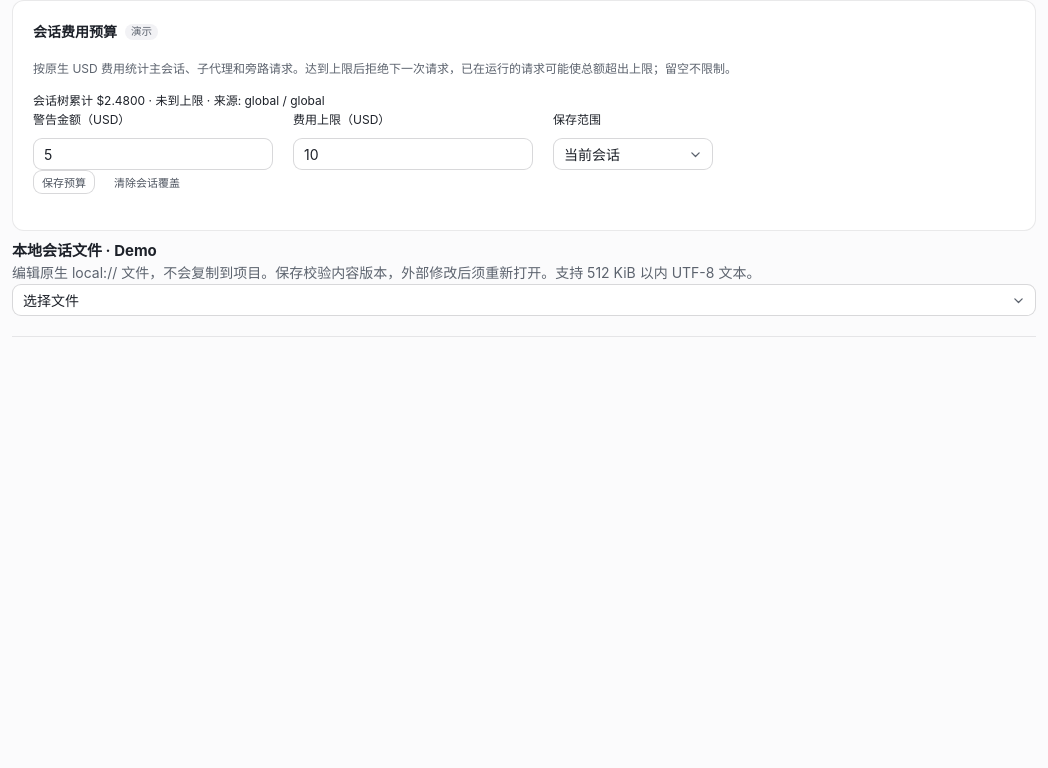
Scenario: keeps budget and local-file demo edits off the Host
Replace the text in the number field labelled "费用上限（USD）" with "1" at (413, 154), box [293,138,533,170]
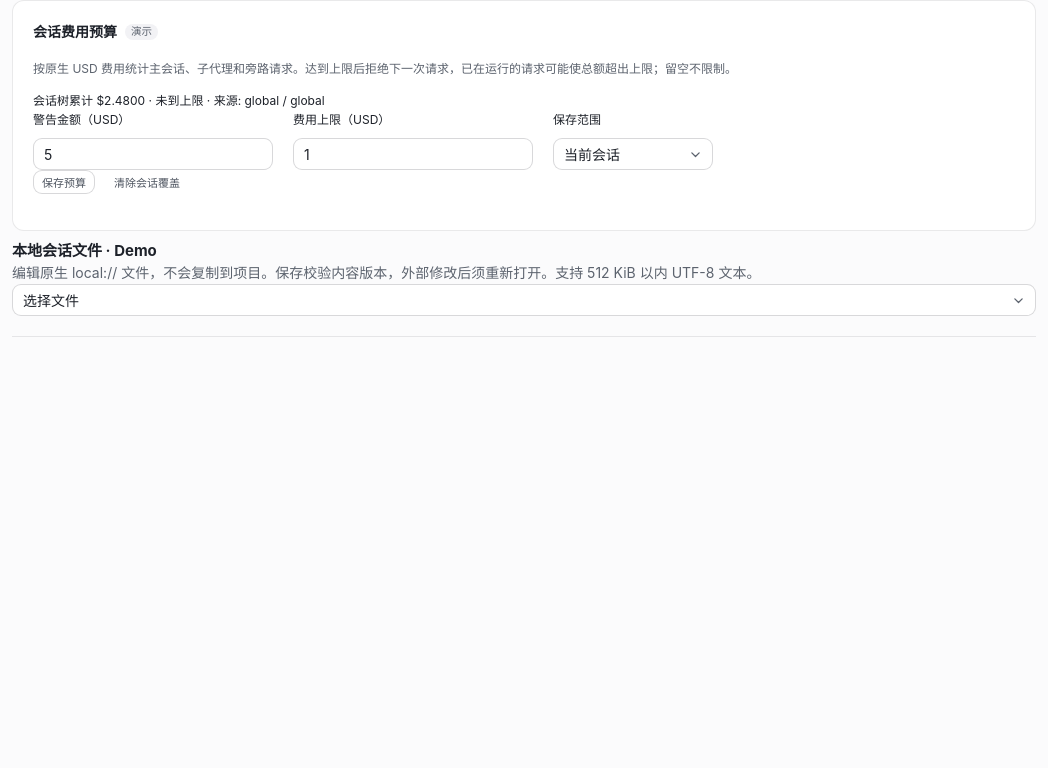
Click the button "保存预算" at (64, 182), box [33,170,95,194]
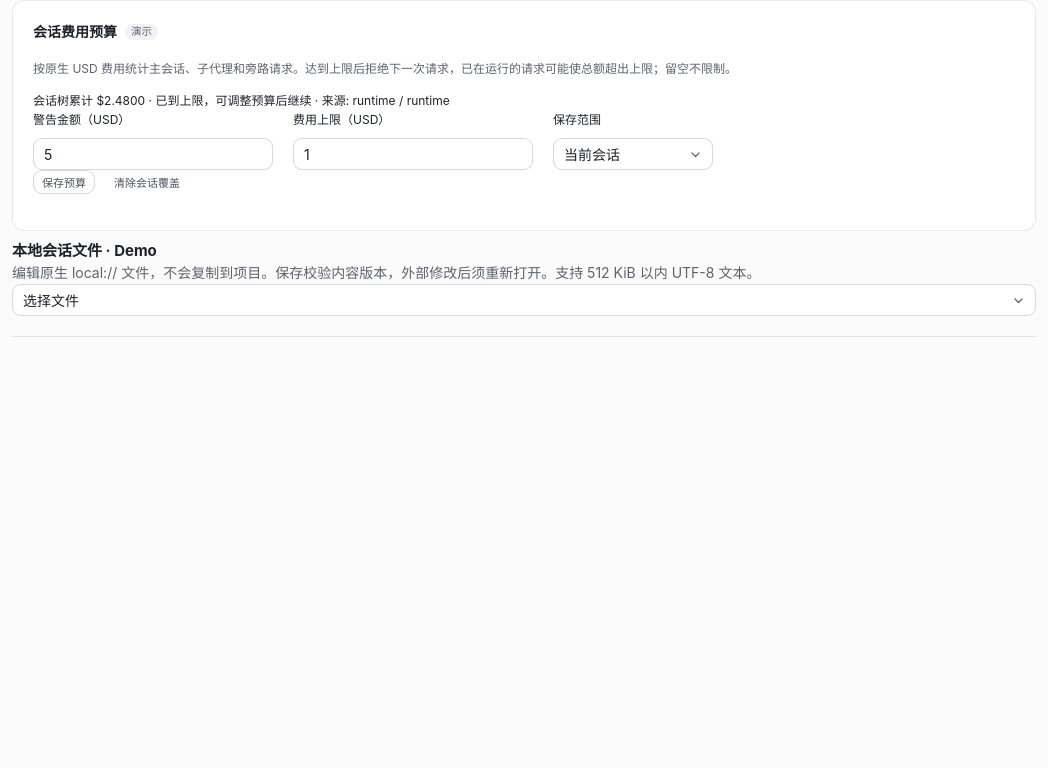
Expected: the text "会话树累计 $2.4800 · 已到上限，可调整预算后继续 · 来源: runtime / runtime" is shown, [33,93,450,108]
Click the dropdown named "选择本地文件" at (51, 300), box [12,284,1036,316]
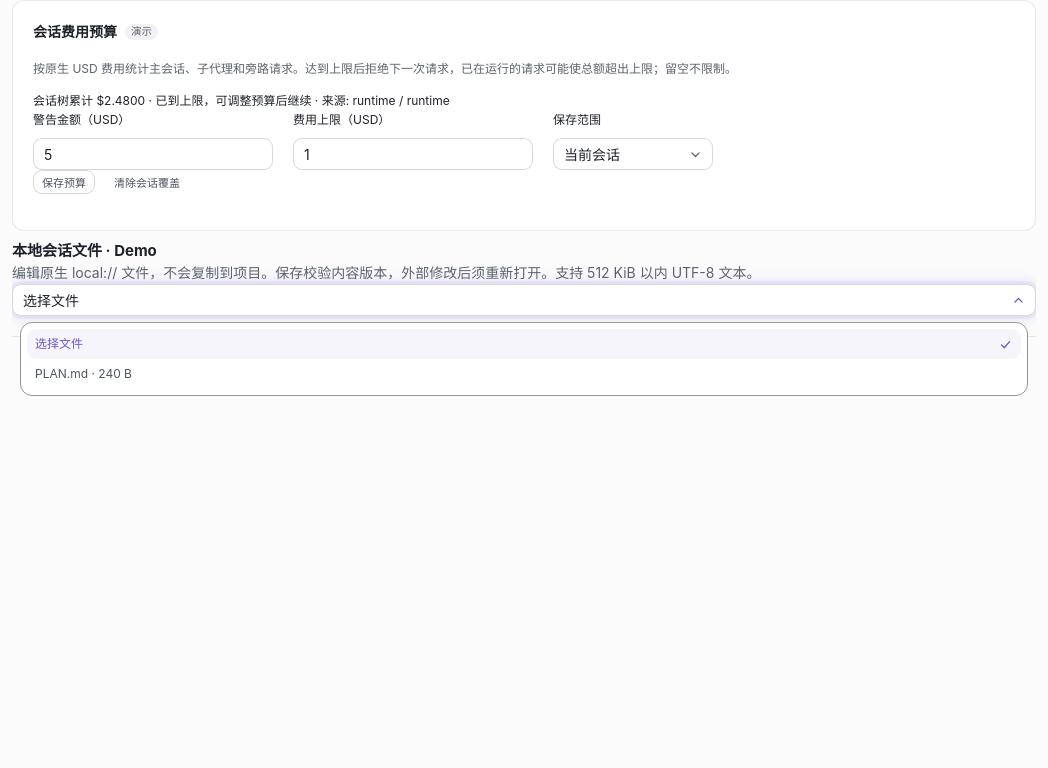
Click the option "PLAN.md · 240 B" at (83, 373), box [27,359,1021,389]
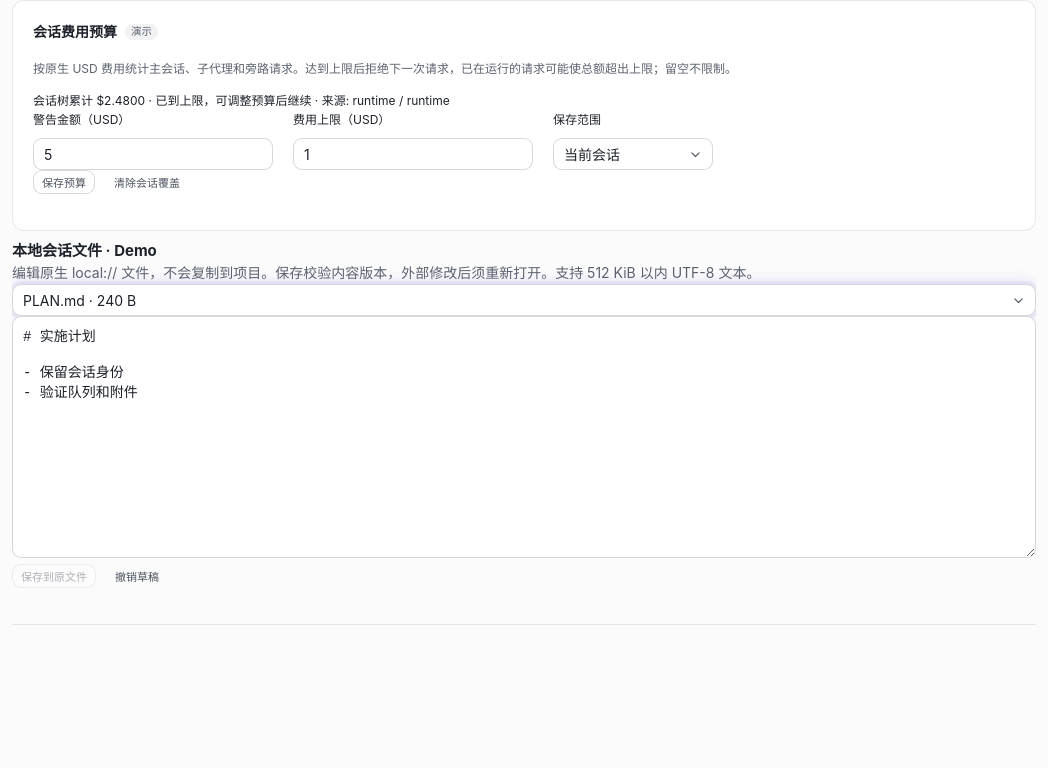
Replace the text in the text box named "本地文件正文" with "changed draft" at (524, 437), box [12,316,1036,558]
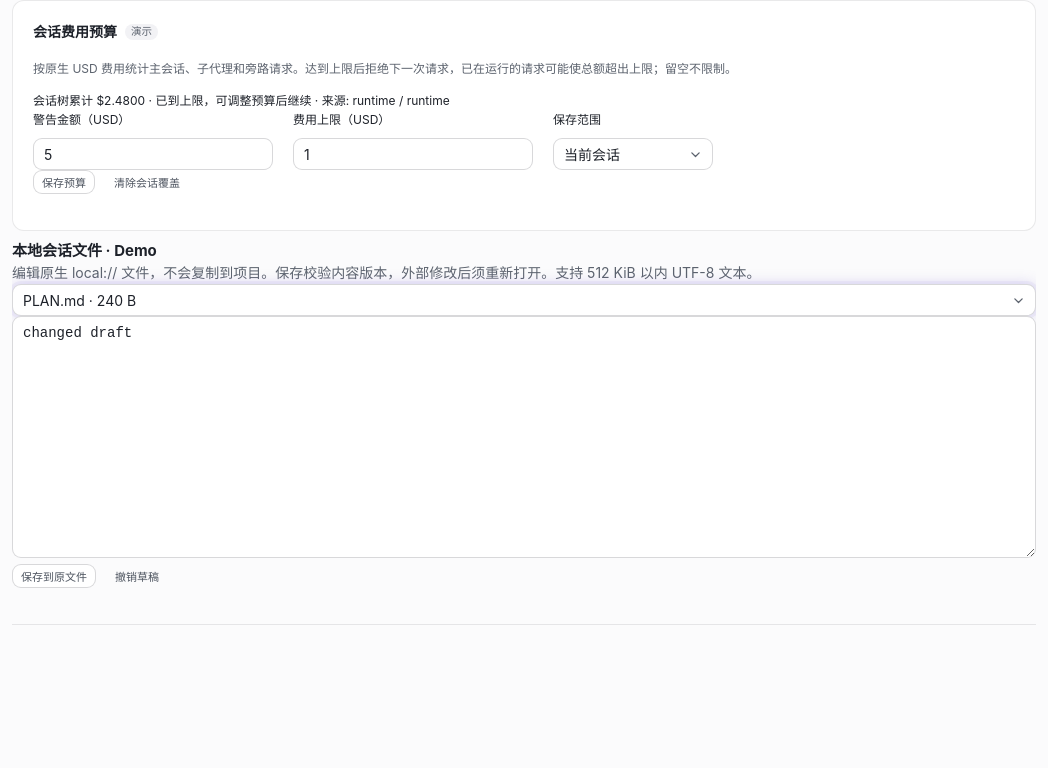
Click the button "保存到原文件" at (54, 576), box [12,564,96,588]
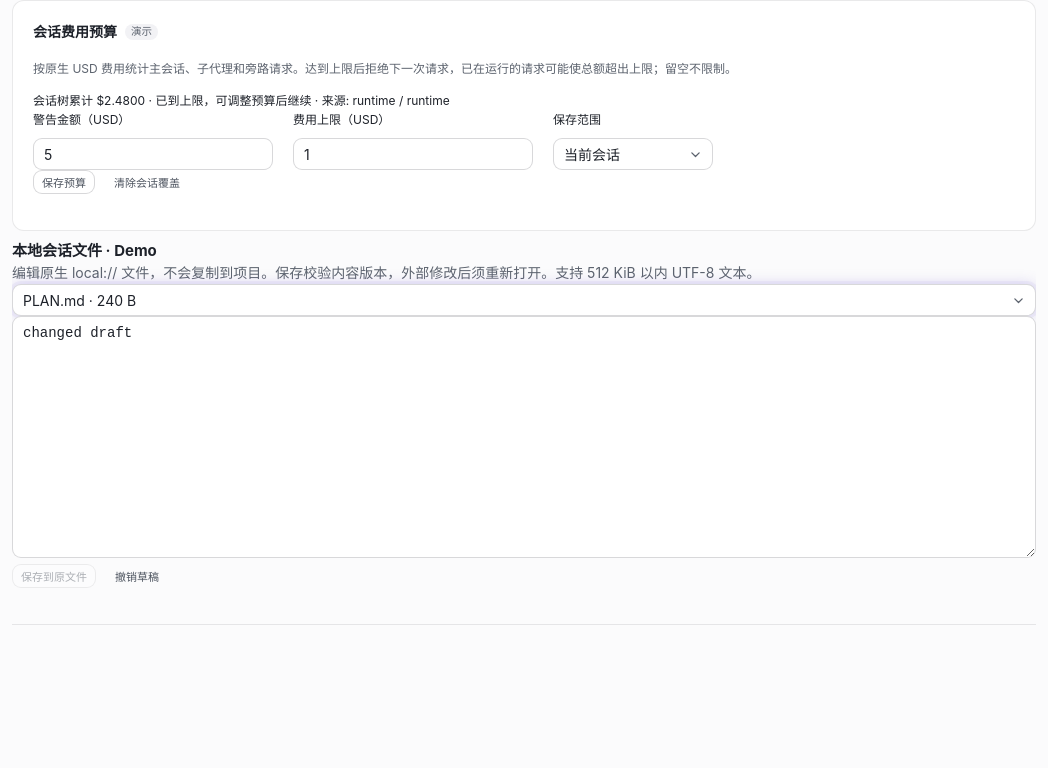
Expected: the button "保存到原文件" is disabled, [12,564,96,588]
